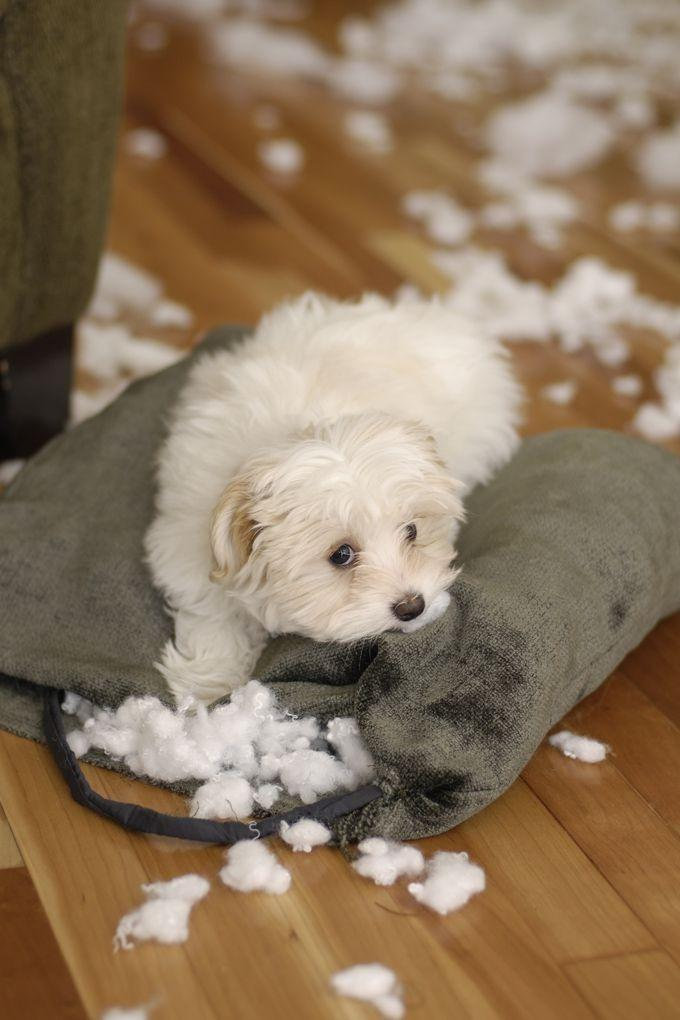puppy-dog: (146, 289, 526, 705)
